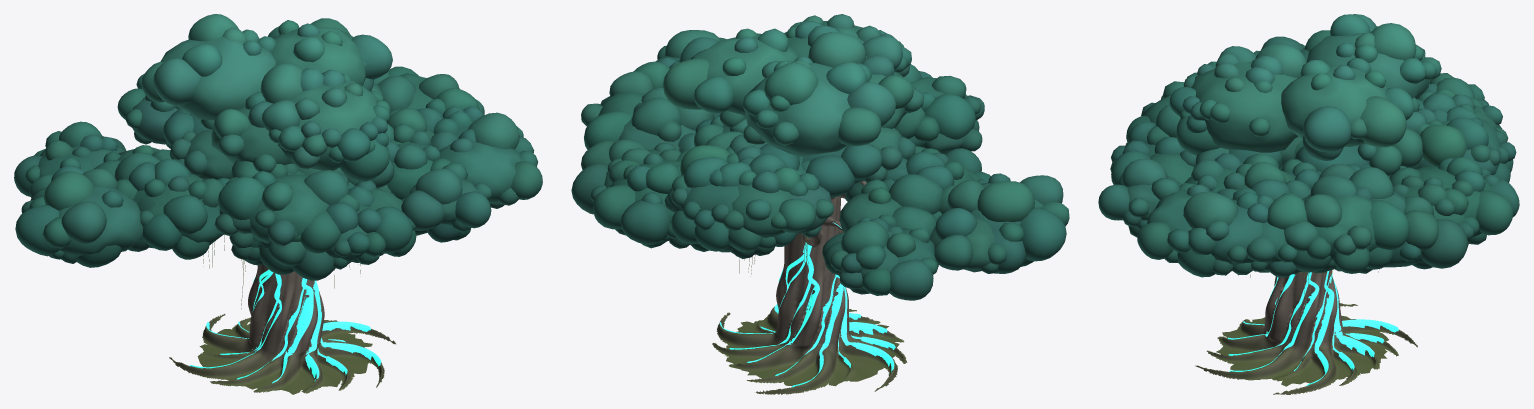
The model's file is arvore-mae.glb.
3 views of the same model, side by side, from view 1: azimuth 30°, elevation 25°; view 2: azimuth 150°, elevation 25°; view 3: azimuth 270°, elevation 25° (orthographic). The views are drawn at different scales.
Visible parts, largest first — view 1: copa_mae, TRONCO_MAE_RAIZ, veios; view 2: copa_mae, TRONCO_MAE_RAIZ, veios; view 3: copa_mae, TRONCO_MAE_RAIZ, veios.
Boxes of the visible parts, left/top/right/bottom form: copa_mae: left=14, top=14, right=542, bottom=280; TRONCO_MAE_RAIZ: left=169, top=235, right=396, bottom=394; veios: left=190, top=269, right=381, bottom=383; copa_mae: left=571, top=14, right=1069, bottom=300; TRONCO_MAE_RAIZ: left=712, top=181, right=907, bottom=394; veios: left=719, top=222, right=895, bottom=387; copa_mae: left=1098, top=14, right=1519, bottom=277; TRONCO_MAE_RAIZ: left=1195, top=269, right=1417, bottom=394; veios: left=1227, top=271, right=1398, bottom=385.
Bounding box in the file's own units: 71.62 × 47.27 × 57.88.
